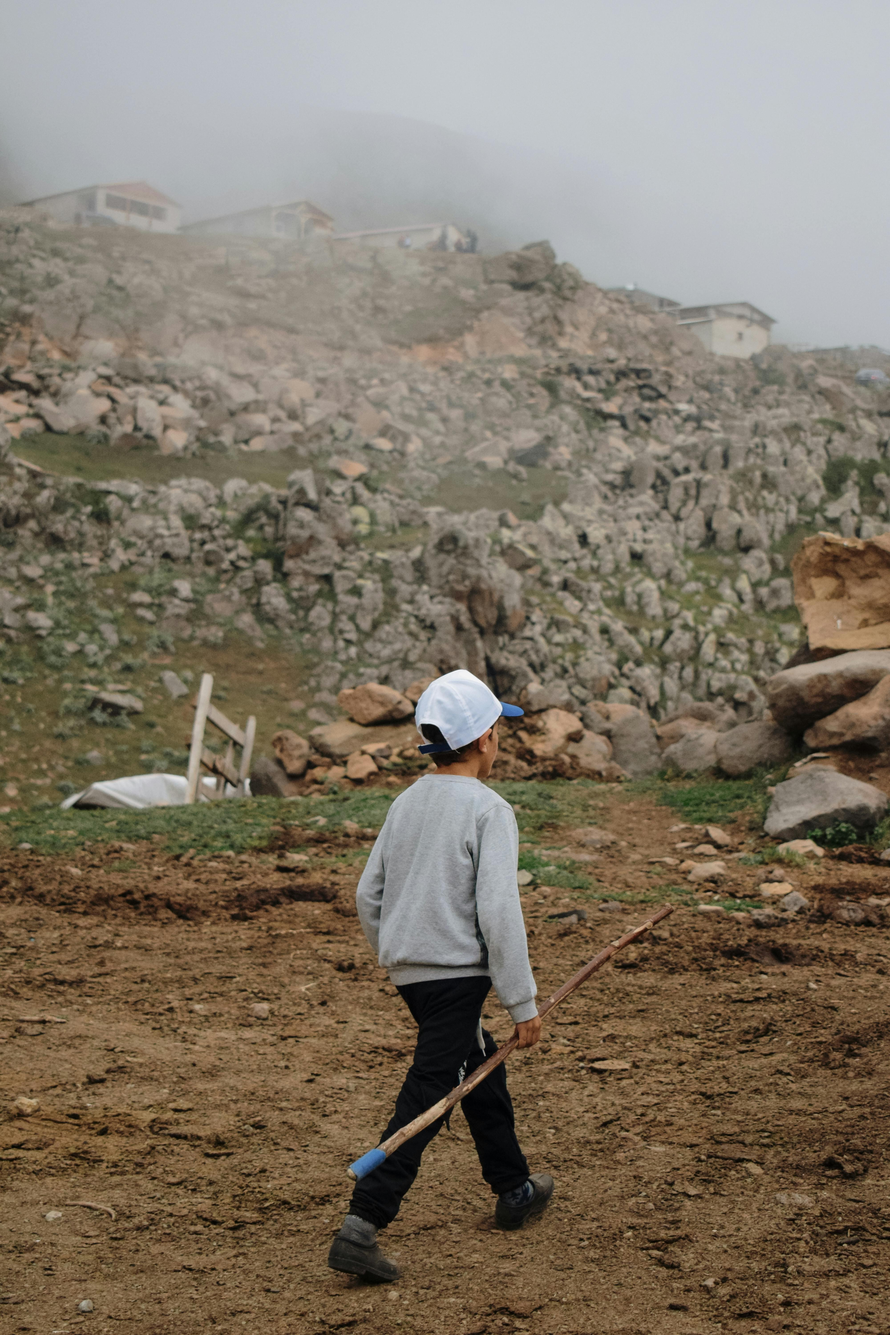Human: (308, 662, 568, 1244)
